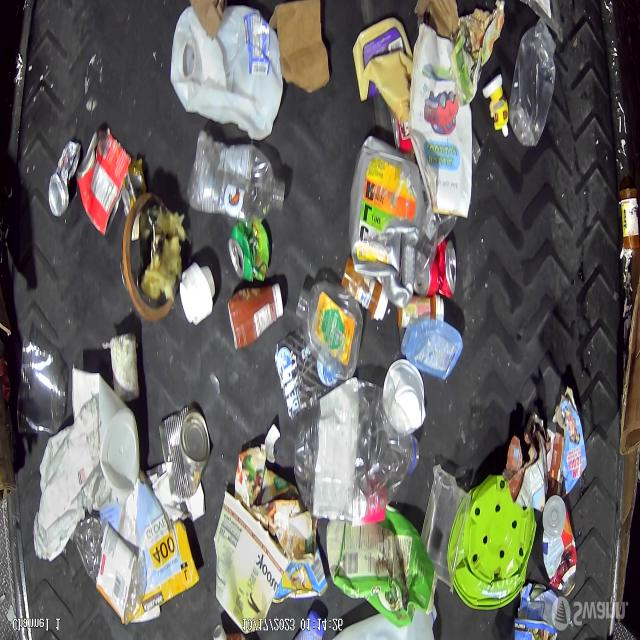can: (76, 131, 131, 237), (159, 407, 209, 500), (47, 142, 80, 220), (228, 222, 270, 283), (414, 238, 456, 298)
milk_jug: (170, 5, 284, 141)
non_white_jug: (349, 136, 425, 308)
plastic_bottle: (188, 130, 286, 221)
